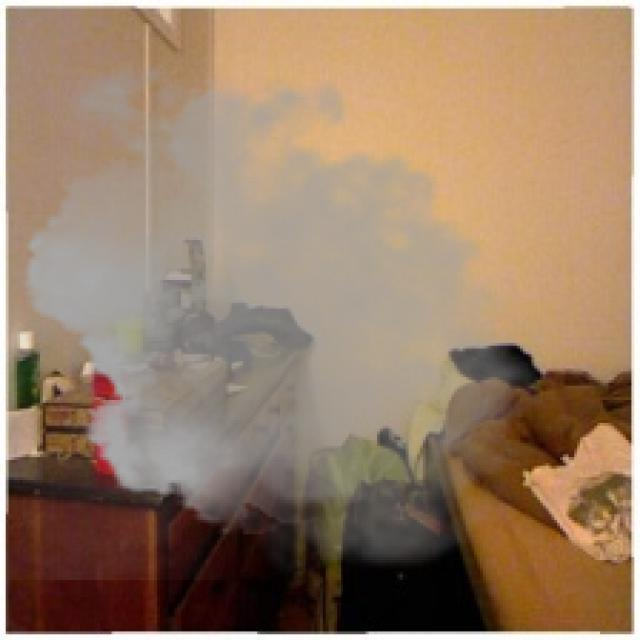Smoke: (8, 46, 560, 580)
